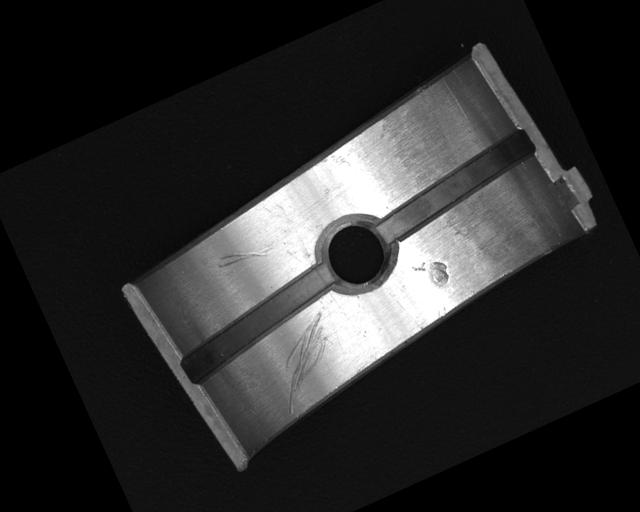bruise: (411, 253, 454, 295)
gap: (167, 261, 349, 385), (365, 127, 544, 242)
hole: (307, 202, 407, 305)
nick: (256, 310, 353, 413), (213, 234, 273, 277)
